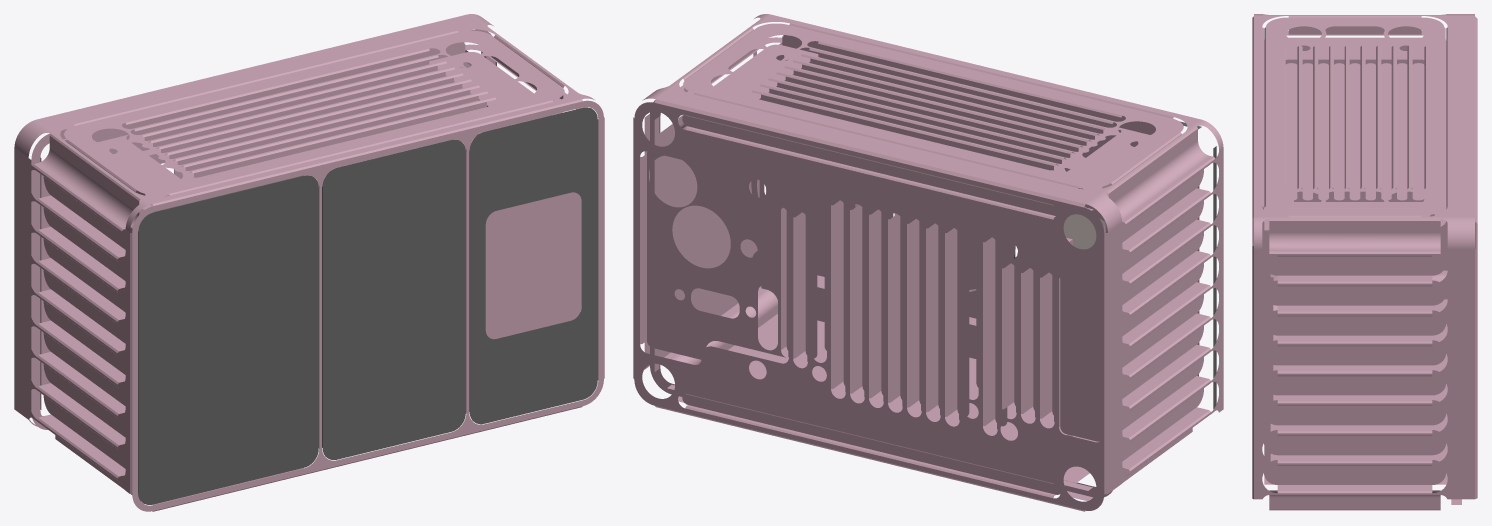
Rendered from Odin1.glb.
3 views of the same model, side by side, from view 1: azimuth 30°, elevation 25°; view 2: azimuth 150°, elevation 25°; view 3: azimuth 270°, elevation 25° (orthographic). The views are drawn at different scales.
Visible parts, largest first — view 1: colour_222_141_173, colour_50_50_50, colour_48_48_48; view 2: colour_222_141_173, colour_48_48_48, colour_255_215_215; view 3: colour_222_141_173.
Boxes of the visible parts, box(x1,y1,x2,y2) form: colour_222_141_173: box(14, 14, 604, 511); colour_50_50_50: box(319, 107, 597, 459); colour_48_48_48: box(138, 175, 318, 504); colour_222_141_173: box(633, 14, 1223, 511); colour_48_48_48: box(1180, 121, 1216, 409); colour_255_215_215: box(1063, 214, 1105, 249); colour_222_141_173: box(1252, 14, 1477, 510).
Size of the model in its own units: 0.1 by 0.062 by 0.043.
